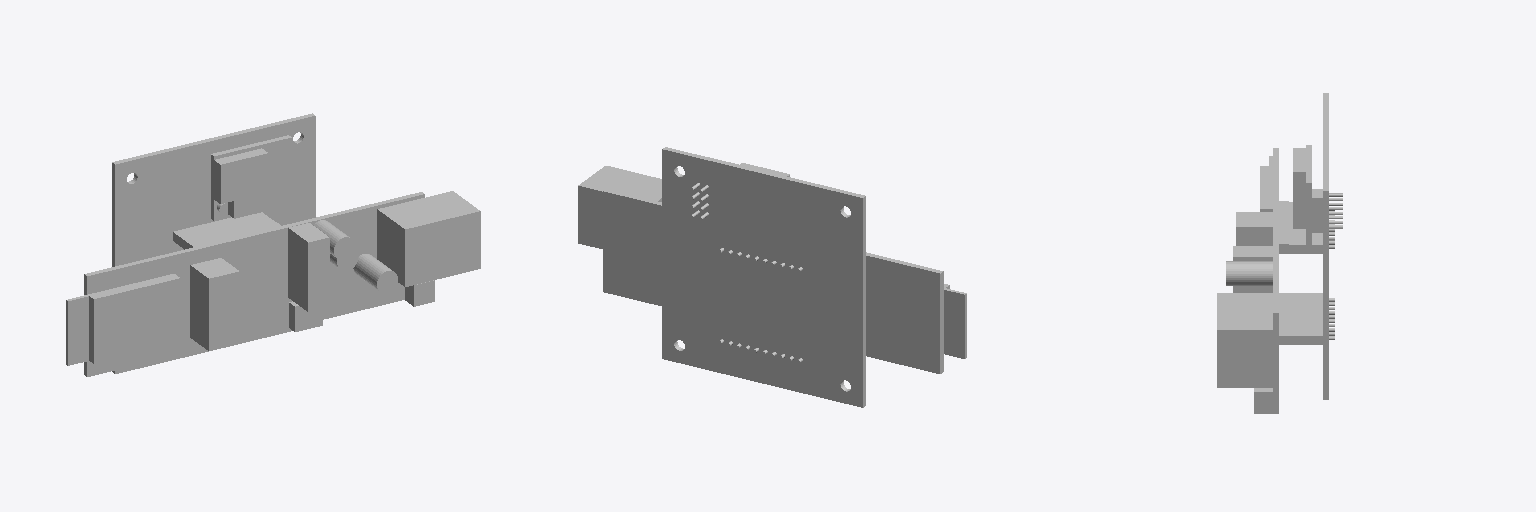
File: MLH2 v2.0.obj
3 views of the same model, side by side, from view 1: azimuth 30°, elevation 25°; view 2: azimuth 150°, elevation 25°; view 3: azimuth 270°, elevation 25° (orthographic).
Parts seen in each view (by area): view 1: PCB:2, PCB, RJ45, ESP WROOM, Connector, DCDC, SX11278, PCB:1, Antenna, Corps1:1, C27, C26 (+2 smaller); view 2: PCB, PCB:2, RJ45, Antenna; view 3: RJ45, PCB, Corps1, PCB:2, Connector, C26, SX11278, DCDC, Corps1:1, PCB:1, ESP WROOM, Corps12:1.
Boxes of the visible parts, box(x1,y1,x2,y2) form: PCB:2: box(84, 192, 424, 376); PCB: box(112, 113, 315, 373); RJ45: box(377, 191, 480, 286); ESP WROOM: box(88, 274, 180, 363); Connector: box(190, 258, 239, 350); DCDC: box(288, 223, 329, 311); SX11278: box(211, 148, 268, 218); PCB:1: box(211, 135, 291, 220); Antenna: box(66, 295, 88, 365); Corps1:1: box(173, 212, 275, 249); C27: box(353, 254, 397, 293); C26: box(313, 220, 354, 259); PCB: box(662, 147, 865, 407); PCB:2: box(603, 189, 943, 373); RJ45: box(578, 166, 661, 248); Antenna: box(944, 288, 966, 358); RJ45: box(1217, 293, 1272, 387); PCB: box(1323, 93, 1328, 399); Corps1: box(1289, 293, 1322, 344); PCB:2: box(1273, 148, 1278, 413); Connector: box(1236, 212, 1272, 245); C26: box(1226, 261, 1272, 285); SX11278: box(1293, 148, 1305, 228); DCDC: box(1233, 246, 1272, 292); Corps1:1: box(1289, 202, 1322, 253); PCB:1: box(1306, 145, 1311, 246); ESP WROOM: box(1260, 166, 1272, 211); Corps12:1: box(1279, 201, 1288, 253).
Bounding box in the file's own units: 11.27 × 5.84 × 3.15.